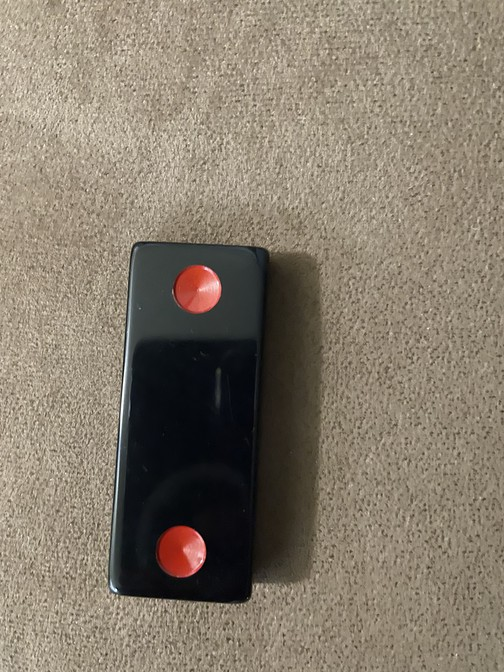earth: (108, 241, 267, 606)
